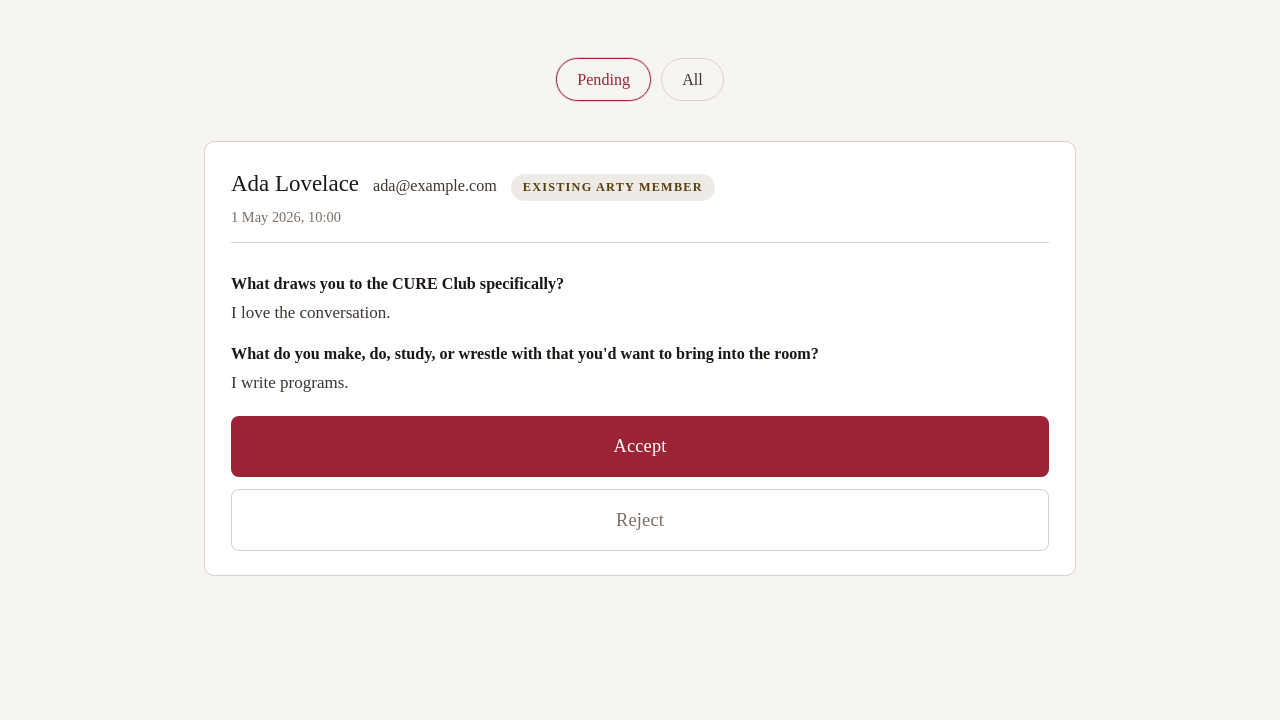
it: ApplicationsPage › accept modal flow → POSTs decision=accept with notes
The width and height of the screenshot is (1280, 720).
(page scrolled)
Click the button with test id "accept-button".
click(640, 446)  # box x1=231 y1=416 x2=1049 y2=477
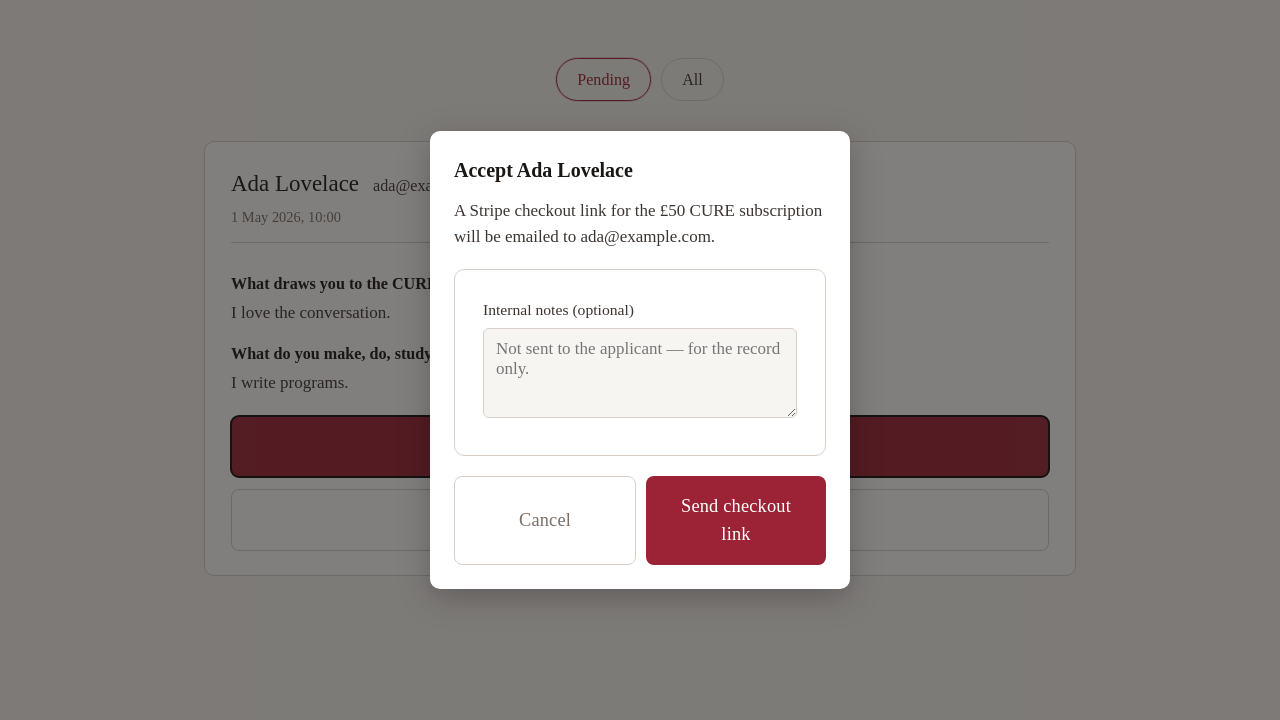
Expected: the button with test id "decide-confirm" reads "Send checkout link", x1=646 y1=476 x2=826 y2=565
Type "Strong fit" into the text box with test id "decide-notes".
click(640, 374); type("Strong fit")  # box x1=483 y1=328 x2=797 y2=418
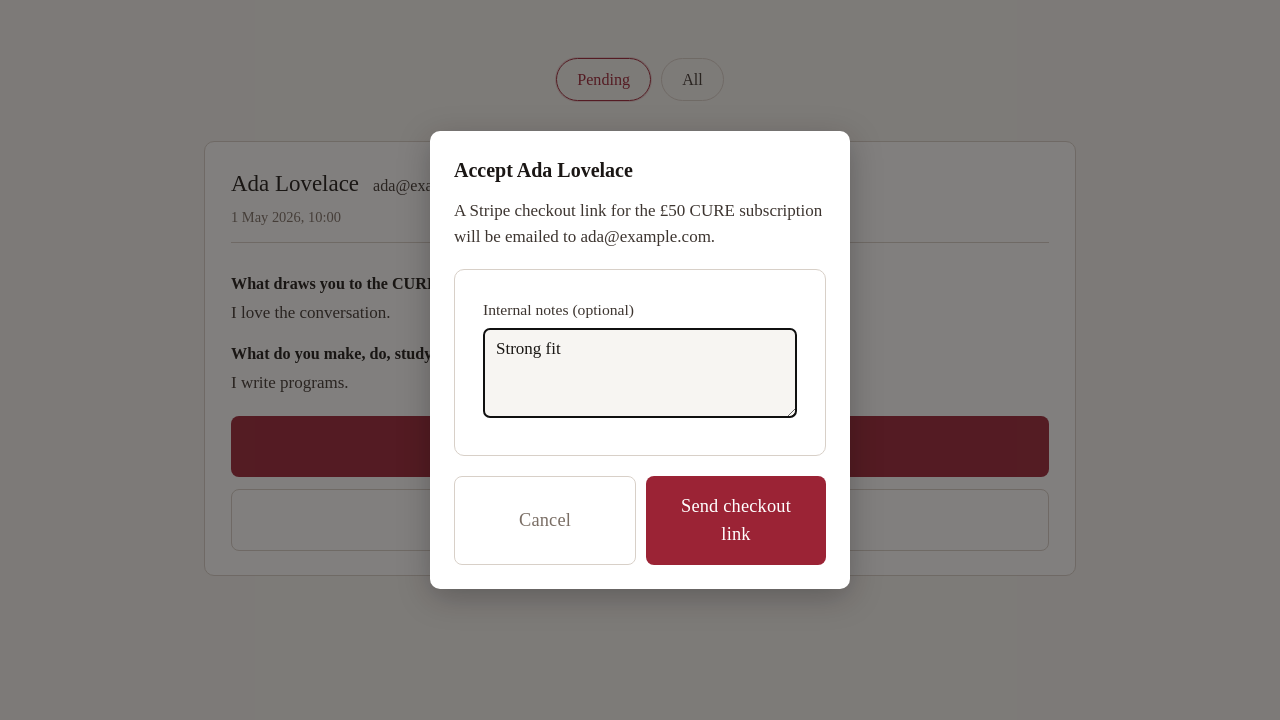
Click the button with test id "decide-confirm".
click(736, 520)  # box x1=646 y1=476 x2=826 y2=565
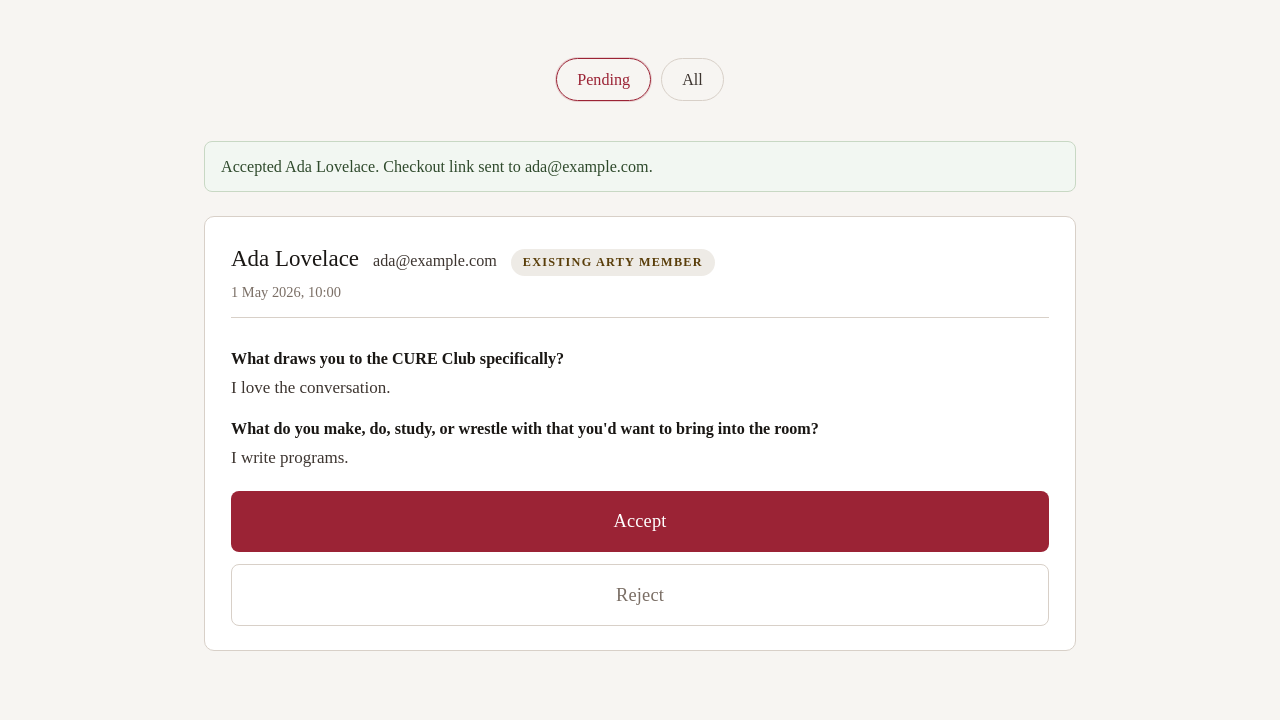
Expected: the message with test id "decide-confirmation" shows "Accepted", x1=221 y1=158 x2=653 y2=175
